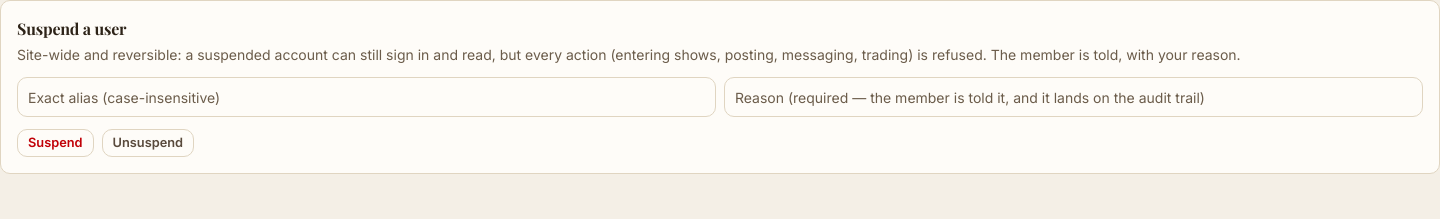
Test case: AdminModerationCard › says the member is told the reason
Type "Trouble" into the field named "User alias".
click(366, 97); type("Trouble")  # box [17,77,716,117]
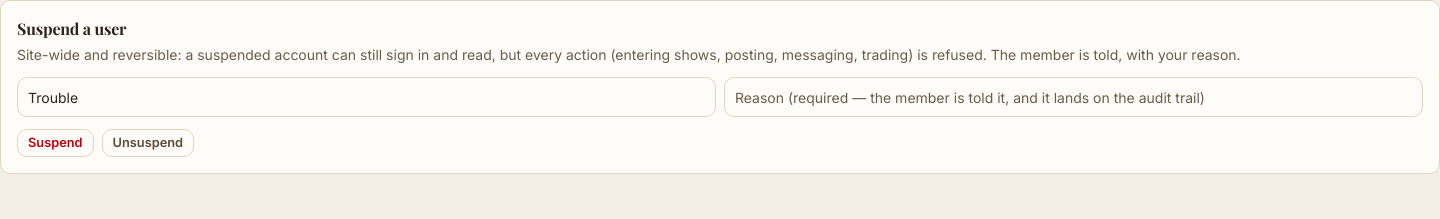
Click the button "Suspend".
click(55, 143)  # box [17,129,94,157]
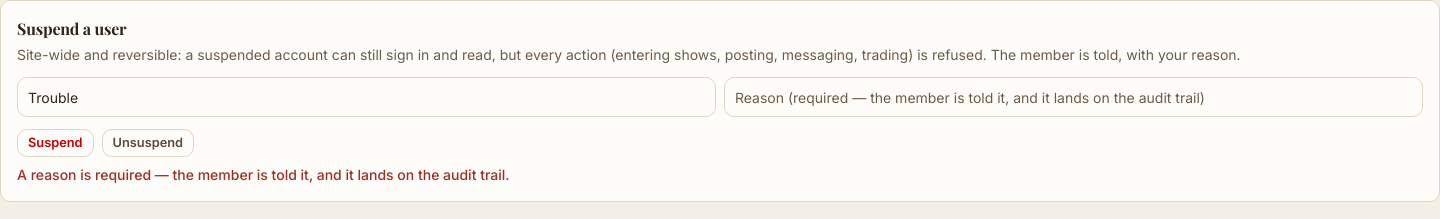
expect the message reads "A reason is required — the member is told it, and it lands on the audit trail.": met, box [17,166,510,183]
